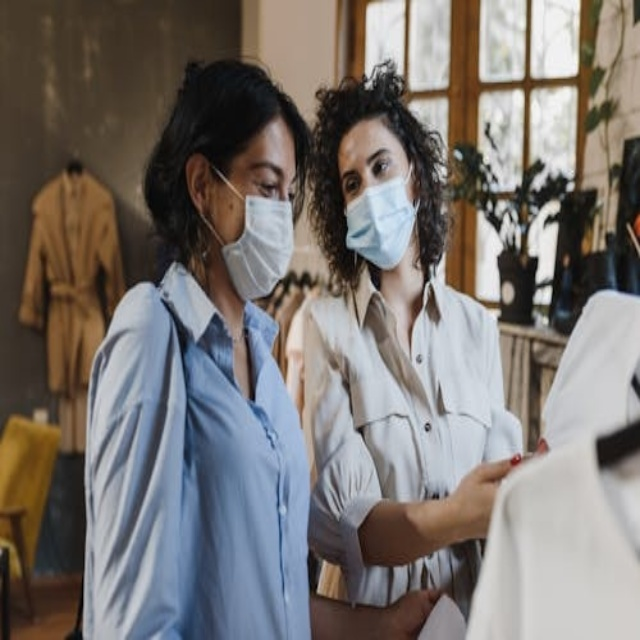Mascara: (204, 164, 293, 301), (343, 164, 419, 269)
Sin_gafas: (225, 149, 301, 203), (339, 138, 401, 195)
Sin_guantes: (438, 437, 532, 552)
